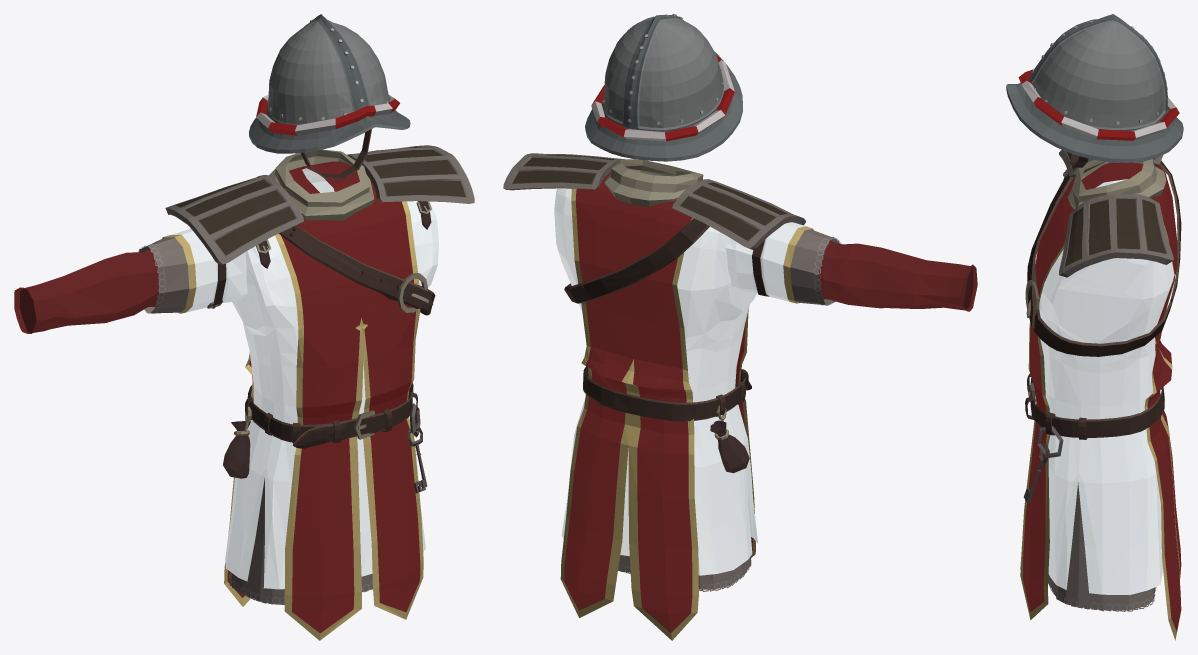
File: gateGuard.glb
The picture shows the model from 3 angles, left to right: view 1: azimuth 30°, elevation 25°; view 2: azimuth 150°, elevation 25°; view 3: azimuth 270°, elevation 25°; orthographic projection. The views are drawn at different scales.
Parts seen in each view (by area): view 1: gateGuardBanner.001, gateGuardBody, gateGuardDetails.001, gateGuardHelmet, gateGuardLowerArm, gateGuardUpperArm; view 2: gateGuardBanner.001, gateGuardBody, gateGuardHelmet, gateGuardDetails.001, gateGuardLowerArm, gateGuardUpperArm; view 3: gateGuardBody, gateGuardHelmet, gateGuardDetails.001, gateGuardBanner.001, key.001.
Boxes of the visible parts, x1,y1,x2,y2 form: gateGuardBanner.001: (224,161,423,640); gateGuardBody: (225,149,438,604); gateGuardDetails.001: (165,145,474,478); gateGuardHelmet: (249,14,410,179); gateGuardLowerArm: (14,252,158,333); gateGuardUpperArm: (138,228,247,313); gateGuardBanner.001: (560,172,755,640); gateGuardBody: (554,159,758,591); gateGuardHelmet: (585,14,742,161); gateGuardDetails.001: (503,153,805,473); gateGuardLowerArm: (820,243,977,311); gateGuardUpperArm: (725,222,841,305); gateGuardBody: (1039,159,1174,611); gateGuardHelmet: (1006,14,1183,167); gateGuardDetails.001: (1025,150,1181,457); gateGuardBanner.001: (1020,162,1181,640); key.001: (1023,443,1049,502).
Size of the model in its own units: 1.27 by 1.65 by 0.4399.
